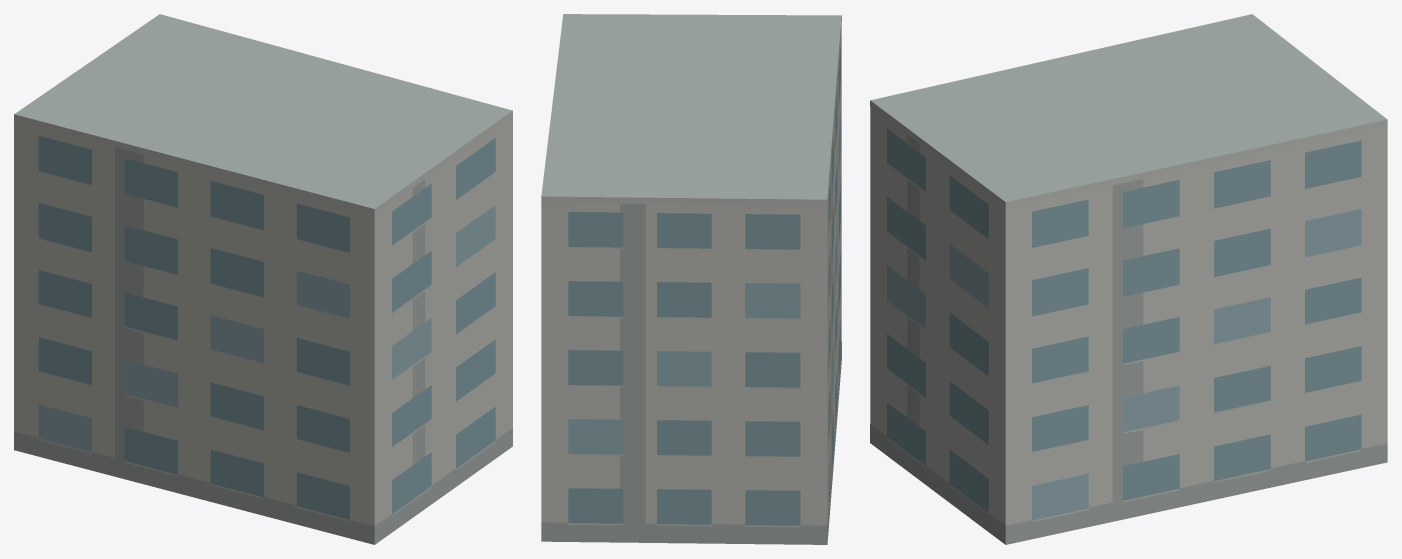
The model's file is survey-upis-32889407.glb.
3 renders of one model, left to right at view 1: azimuth 30°, elevation 25°; view 2: azimuth 150°, elevation 25°; view 3: azimuth 270°, elevation 25°, orthographic. The views are drawn at different scales.
Visible parts, largest first — view 1: survey-upis-32889407.tmp; view 2: survey-upis-32889407.tmp; view 3: survey-upis-32889407.tmp.
Part boxes in pixels (x1,y1,x2,y2): survey-upis-32889407.tmp: (14,14,512,544); survey-upis-32889407.tmp: (541,14,841,544); survey-upis-32889407.tmp: (870,14,1387,544).
Size of the model in its own units: 15.49 by 13.15 by 18.
